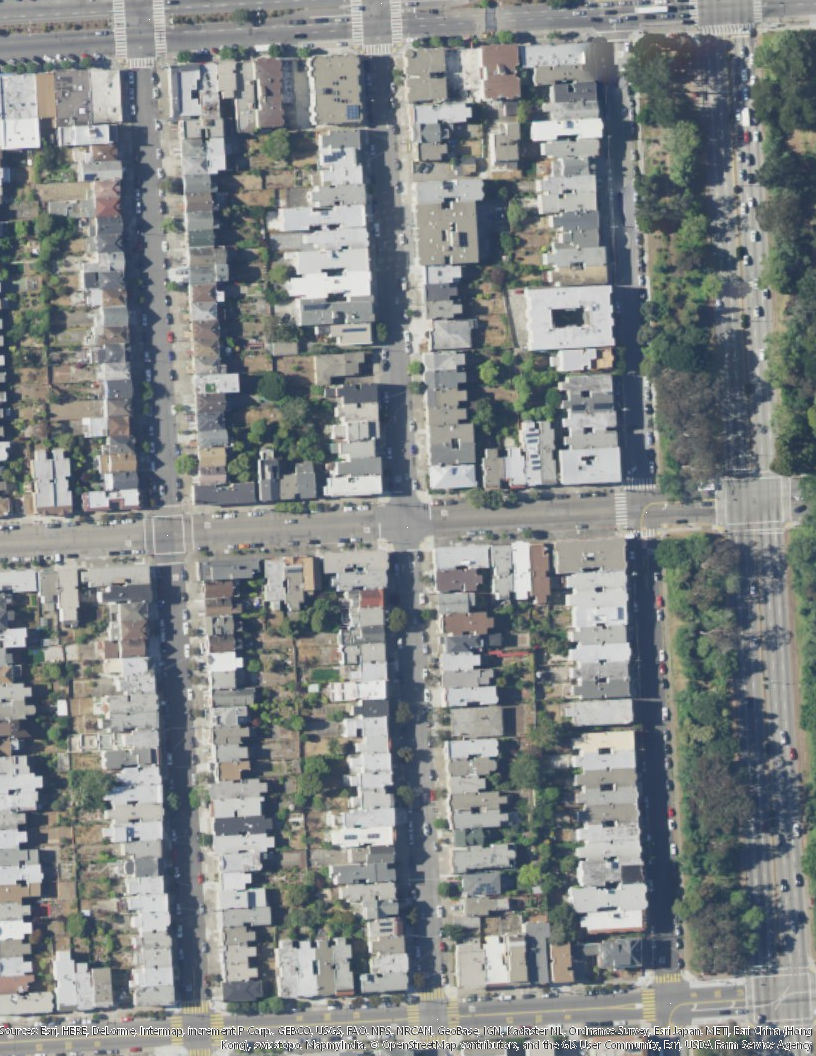zebracross: (148, 1, 171, 56), (108, 1, 128, 60), (347, 1, 366, 46), (388, 1, 404, 43), (640, 986, 658, 1023), (210, 1011, 226, 1050), (614, 491, 630, 529), (177, 999, 209, 1016), (414, 986, 447, 1001), (624, 477, 657, 491), (130, 56, 156, 72), (697, 27, 752, 34), (447, 999, 461, 1026), (169, 1015, 183, 1042), (367, 44, 394, 57), (407, 1002, 421, 1026), (654, 974, 682, 985), (751, 1, 765, 22), (690, 1, 700, 24), (633, 530, 661, 538), (191, 1047, 212, 1056)
